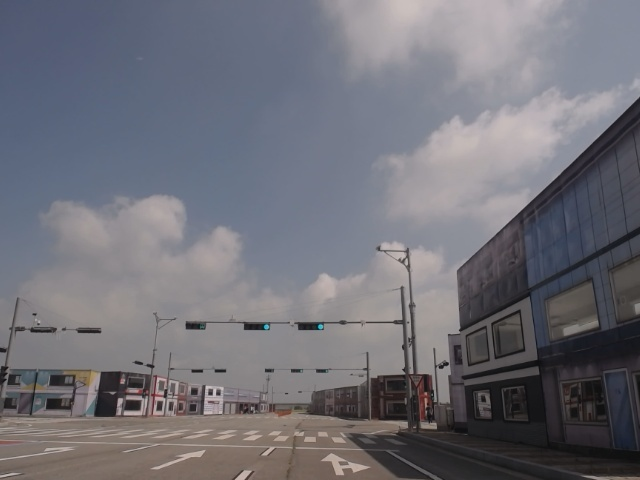straight_green_4: (245, 322, 272, 331), (299, 322, 326, 331)
